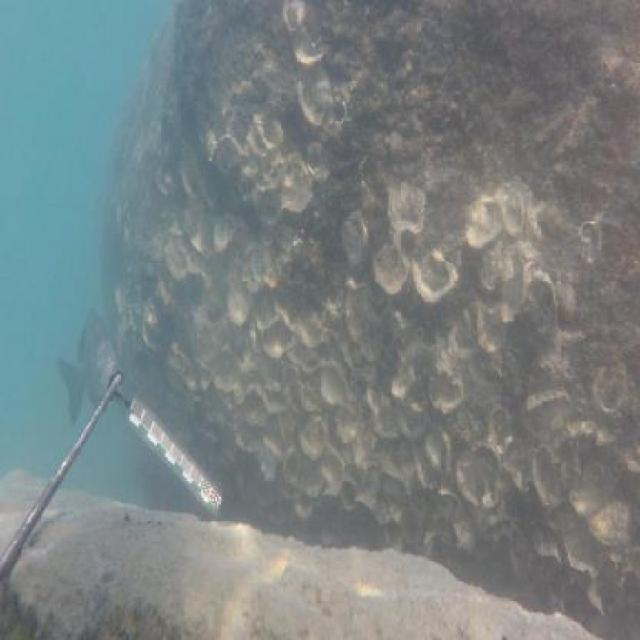acanthopagrus_palmaris: (57, 310, 118, 424)
